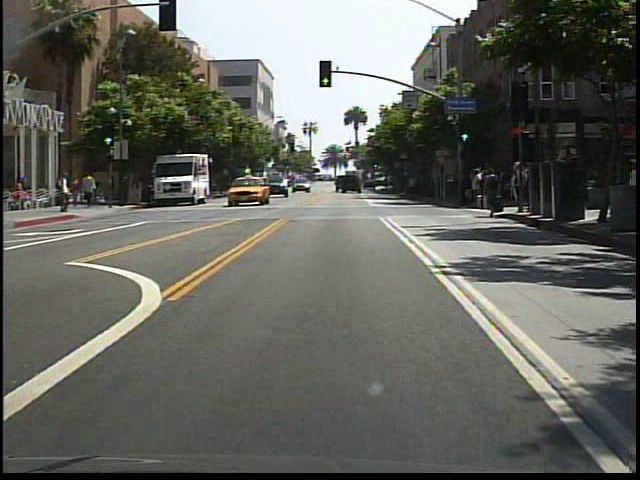person: (480, 165, 504, 221), (59, 168, 75, 215), (12, 174, 29, 213), (84, 168, 100, 207), (72, 174, 84, 208)
